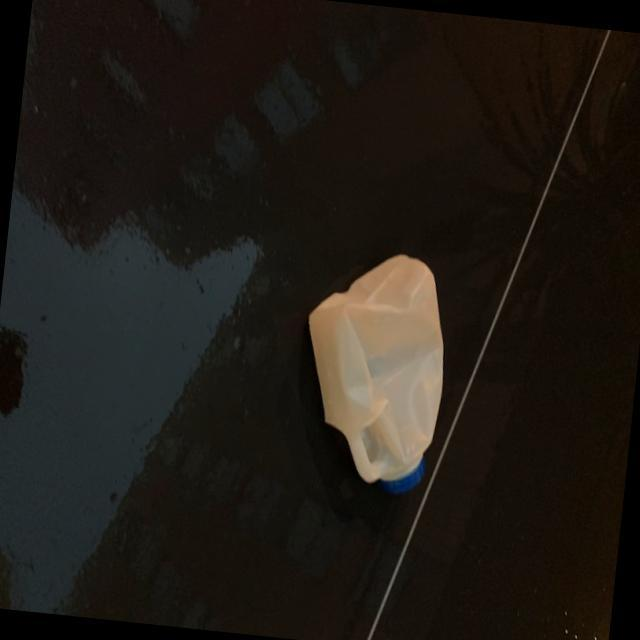HDPE Plastic: (304, 250, 450, 496)
